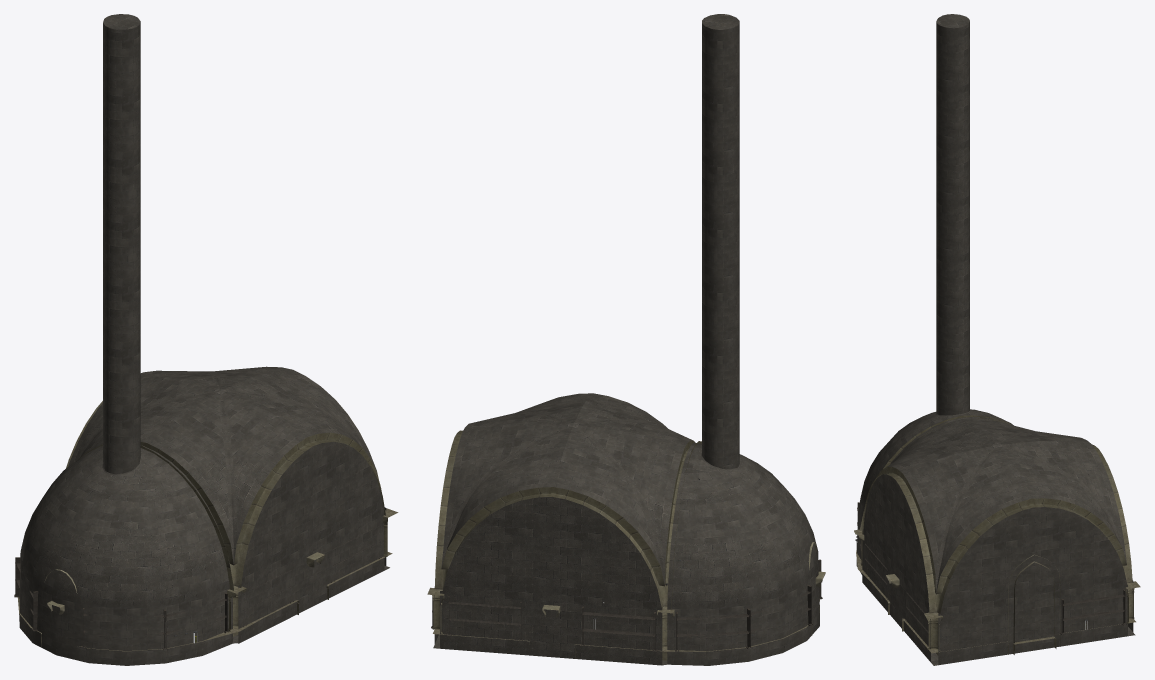
Rendered from potionroom.fbx.
3 renders of one model, left to right at view 1: azimuth 30°, elevation 25°; view 2: azimuth 150°, elevation 25°; view 3: azimuth 270°, elevation 25°, orthographic. The views are drawn at different scales.
Parts seen in each view (by area): view 1: walls, atlased_objects15, atlased_objects, atlased_objects14; view 2: walls, atlased_objects15, atlased_objects, atlased_objects16; view 3: walls, atlased_objects15, atlased_objects, atlased_objects16, atlased_objects14.
Boxes of the visible parts, <box> form: walls: <box>19,14,386,665</box>; atlased_objects15: <box>66,391,385,592</box>; atlased_objects: <box>14,450,299,651</box>; atlased_objects14: <box>326,508,398,599</box>; walls: <box>434,14,819,665</box>; atlased_objects15: <box>435,430,701,614</box>; atlased_objects: <box>574,478,825,660</box>; atlased_objects16: <box>427,587,529,644</box>; walls: <box>856,14,1133,665</box>; atlased_objects15: <box>860,415,1132,613</box>; atlased_objects: <box>854,415,1060,654</box>; atlased_objects16: <box>1059,581,1140,634</box>; atlased_objects14: <box>902,592,1009,655</box>.
Size of the model in its own units: 12.27 by 19.89 by 9.69.
